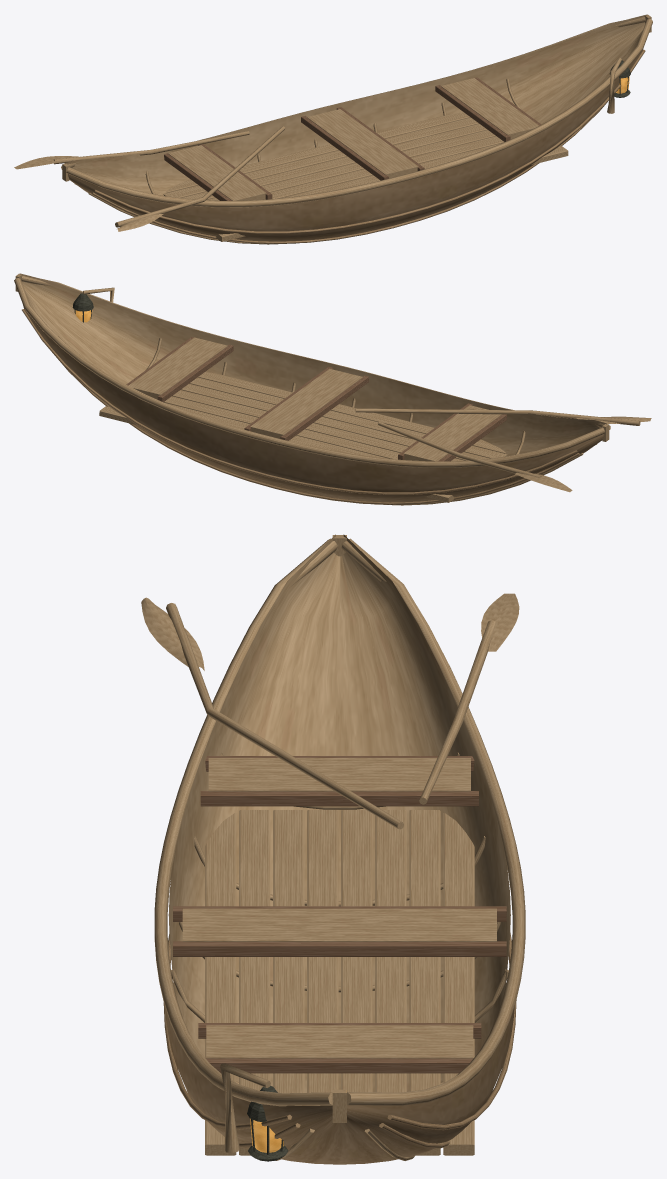
File: kawaguchi_rowboat.glb
3 renders of one model, top to bottom at view 1: azimuth 30°, elevation 25°; view 2: azimuth 150°, elevation 25°; view 3: azimuth 270°, elevation 25°, orthographic. The views are drawn at different scales.
Visible parts, largest first — view 1: kawaguchi_rowboat; view 2: kawaguchi_rowboat; view 3: kawaguchi_rowboat.
Part boxes in pixels (<box>): kawaguchi_rowboat: <box>14,14,652,244</box>; kawaguchi_rowboat: <box>14,273,651,505</box>; kawaguchi_rowboat: <box>141,534,525,1164</box>.
Size of the model in its own units: 4.2 by 0.88 by 1.18.
2 materials, 2 textured.
